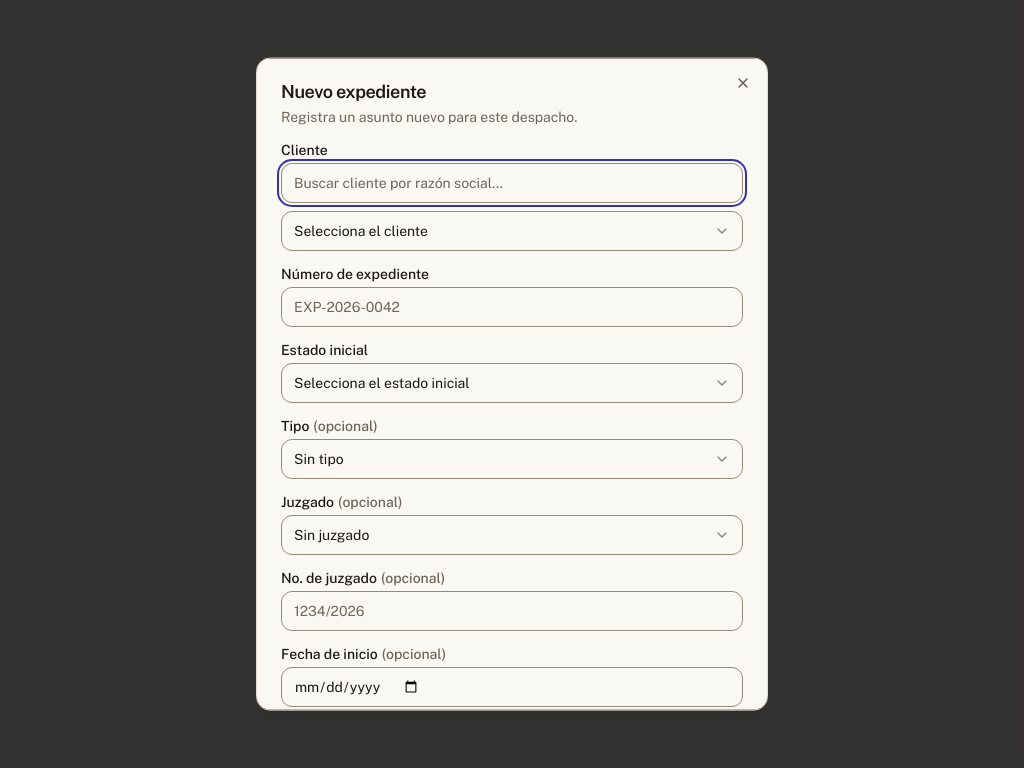
Scenario: recording a new matter › offers only active catalog entries
Check: the dialog is shown, box [256, 58, 768, 710]
Click the dropdown labelled "Selecciona el estado inicial".
click(382, 383)  # box [281, 363, 743, 403]
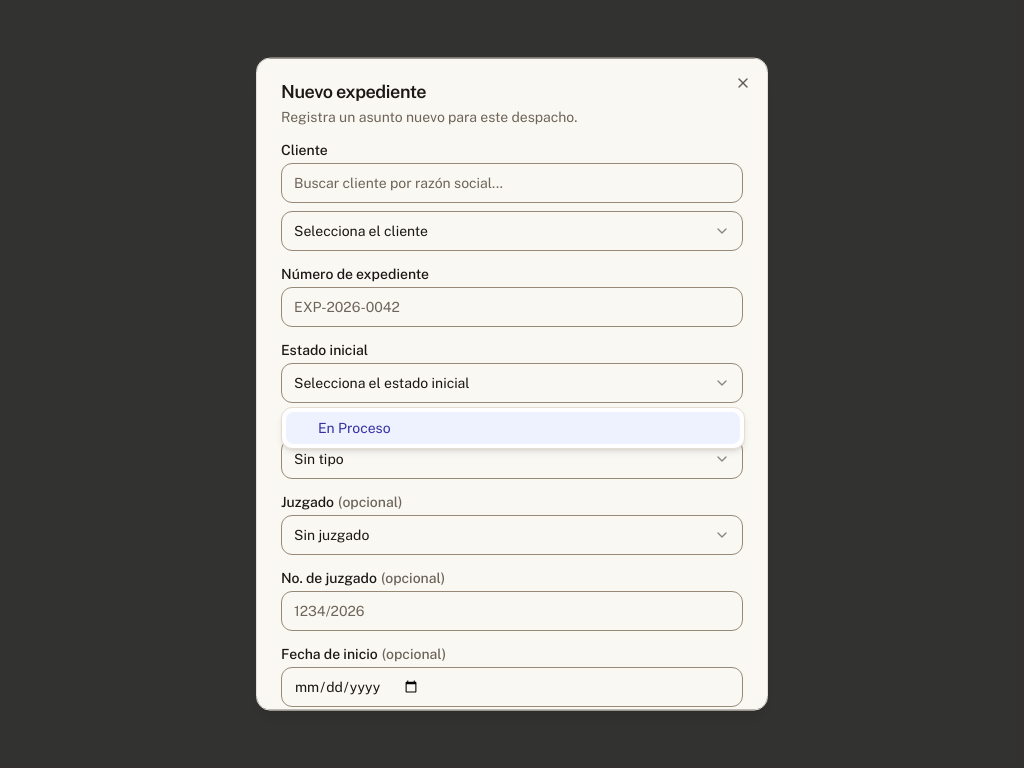
Check: the option "En Proceso" is shown, box [286, 412, 740, 444]
